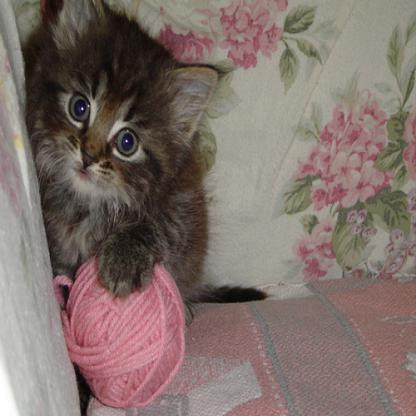Dog: (43, 8, 203, 305)
